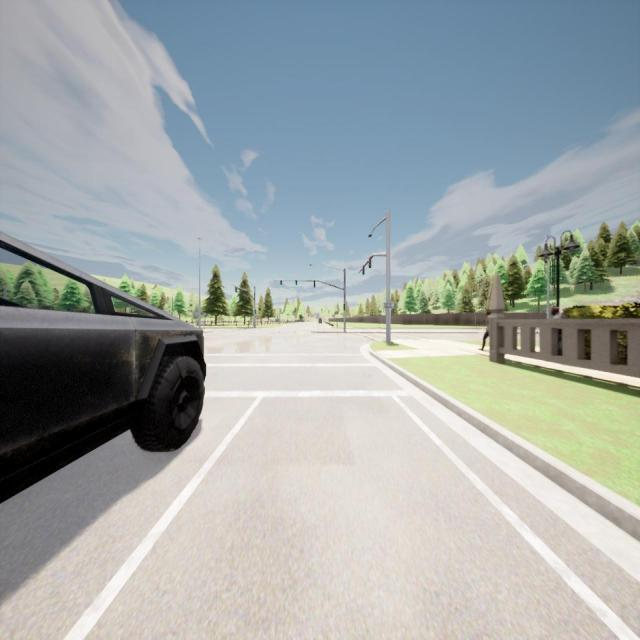Pedestrian: (480, 309, 490, 356), (550, 304, 562, 322)
Traffic_Signs: (384, 303, 396, 308), (316, 314, 319, 320)
Vehicle: (0, 232, 206, 502), (318, 316, 322, 326)
traffic_light: (368, 258, 371, 268), (362, 266, 364, 275), (235, 286, 237, 293), (296, 280, 298, 286), (280, 281, 282, 286), (314, 281, 315, 288), (344, 304, 345, 311), (255, 309, 256, 314)
